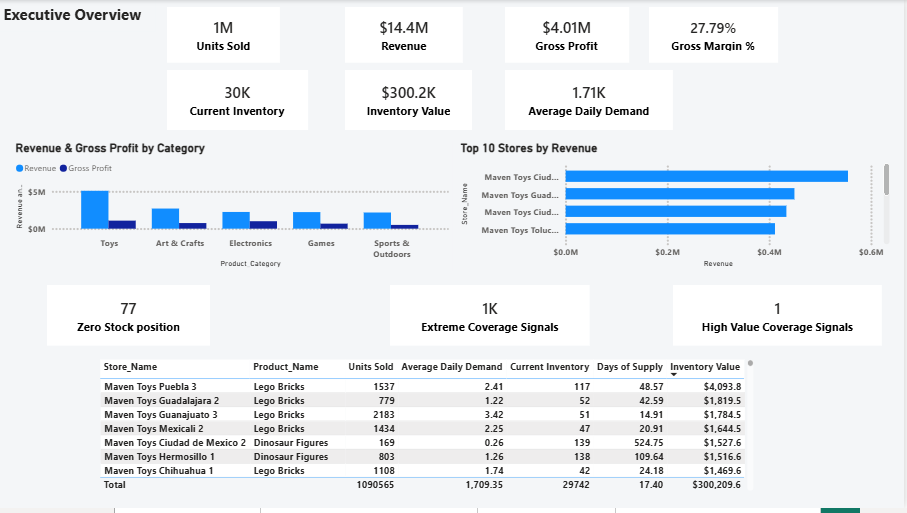

The page's visual inventory and layout, read from the dashboard file:
{"tool":"powerbi","page":{"name":"Executive Overview","canvas":[1280,720],"ordinal":0},"visuals":[{"type":"cardVisual","fields":{"Data":["calendar.Units Sold"]},"box":[236.7,9.9,160.2,79.4],"z":0},{"type":"textbox","box":[0,0,220,44.3],"z":1000},{"type":"cardVisual","fields":{"Data":["calendar.Revenue"]},"box":[489,9.9,167.2,79.4],"z":2000},{"type":"cardVisual","fields":{"Data":["calendar.Gross Profit"]},"box":[715.7,9.9,175.7,79.4],"z":3000},{"type":"cardVisual","fields":{"Data":["calendar.Gross Margin %"]},"box":[919.8,9.9,182.8,79.4],"z":4000},{"type":"cardVisual","fields":{"Data":["calendar.Current Inventory"]},"box":[236.7,99.2,199.8,85],"z":5000},{"type":"cardVisual","fields":{"Data":["calendar.Inventory Value"]},"box":[489,99.2,180,85],"z":6000},{"type":"cardVisual","fields":{"Data":["calendar.Average Daily Demand"]},"box":[715.7,99.2,238.1,85],"z":7000},{"type":"clusteredColumnChart","title":"Revenue & Gross Profit by Category","fields":{"Category":["products.Product_Category"],"Y":["calendar.Revenue","calendar.Gross Profit"]},"box":[17,199.8,623.6,184.3],"z":8000},{"type":"clusteredBarChart","title":"Top 10 Stores by Revenue","fields":{"Category":["stores.Store_Name"],"Y":["calendar.Revenue"]},"box":[647.7,199.8,618,184.3],"z":9000},{"type":"cardVisual","fields":{"Data":["calendar.Zero Stock position"]},"box":[66.6,403.9,231,86.5],"z":10000},{"type":"cardVisual","fields":{"Data":["calendar.Extreme Coverage Signals"]},"box":[552.8,403.9,283.5,86.5],"z":11000},{"type":"cardVisual","fields":{"Data":["calendar.High Value Coverage Signals"]},"box":[953.9,403.9,296.2,86.5],"z":12000},{"type":"tableEx","fields":{"Values":["stores.Store_Name","products.Product_Name","calendar.Units Sold","calendar.Average Daily Demand","calendar.Current Inventory","calendar.Days of Supply","calendar.Inventory Value"]},"box":[135.4,504,937.4,195.8],"z":13000}]}

Visuals, with their boxes in screenshot pixels (x1, y1, x2, y2), scaled from the page's 1280x720 canvas onto the 907x513 screenshot:
cardVisual - calendar.Units Sold: select_region(168, 7, 281, 64)
textbox: select_region(0, 0, 156, 32)
cardVisual - calendar.Revenue: select_region(347, 7, 465, 64)
cardVisual - calendar.Gross Profit: select_region(507, 7, 632, 64)
cardVisual - calendar.Gross Margin %: select_region(652, 7, 781, 64)
cardVisual - calendar.Current Inventory: select_region(168, 71, 309, 131)
cardVisual - calendar.Inventory Value: select_region(347, 71, 474, 131)
cardVisual - calendar.Average Daily Demand: select_region(507, 71, 676, 131)
"Revenue & Gross Profit by Category" clusteredColumnChart: select_region(12, 142, 454, 274)
"Top 10 Stores by Revenue" clusteredBarChart: select_region(459, 142, 897, 274)
cardVisual - calendar.Zero Stock position: select_region(47, 288, 211, 349)
cardVisual - calendar.Extreme Coverage Signals: select_region(392, 288, 593, 349)
cardVisual - calendar.High Value Coverage Signals: select_region(676, 288, 886, 349)
tableEx - stores.Store_Name x products.Product_Name: select_region(96, 359, 760, 499)
